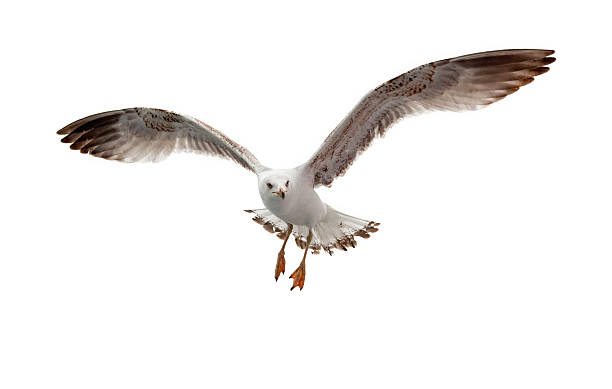Bird: (47, 44, 556, 294)
